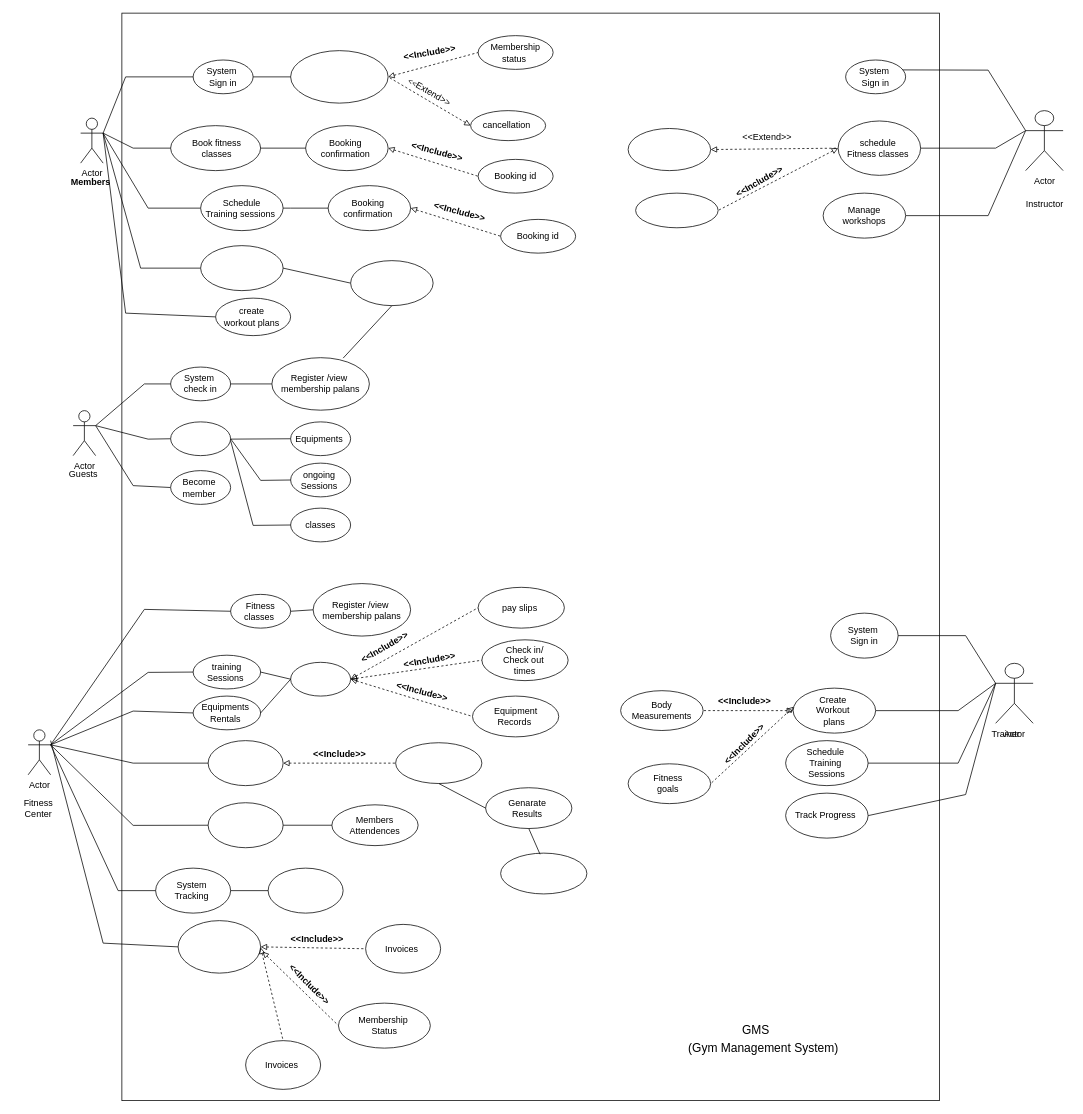
Some shapes in this 1083 by 1114 pixel diagram are drawn without their labels. Here are the shapes that lost their labels. From the top down, the centre of each, then its label:
(x=339, y=76): view their meberships
(x=669, y=149): Guest Attendence
(x=676, y=210): Members Info
(x=241, y=268): Bring clients/Guests
(x=391, y=283): Guest Registeration
(x=200, y=438): Access Gym
(x=320, y=679): Members Records
(x=245, y=763): Health Assessments
(x=438, y=763): Members Health Records
(x=245, y=825): Workout Routines
(x=305, y=890): Staff information
(x=543, y=873): Stored In System
(x=219, y=946): Payments and Memberships
